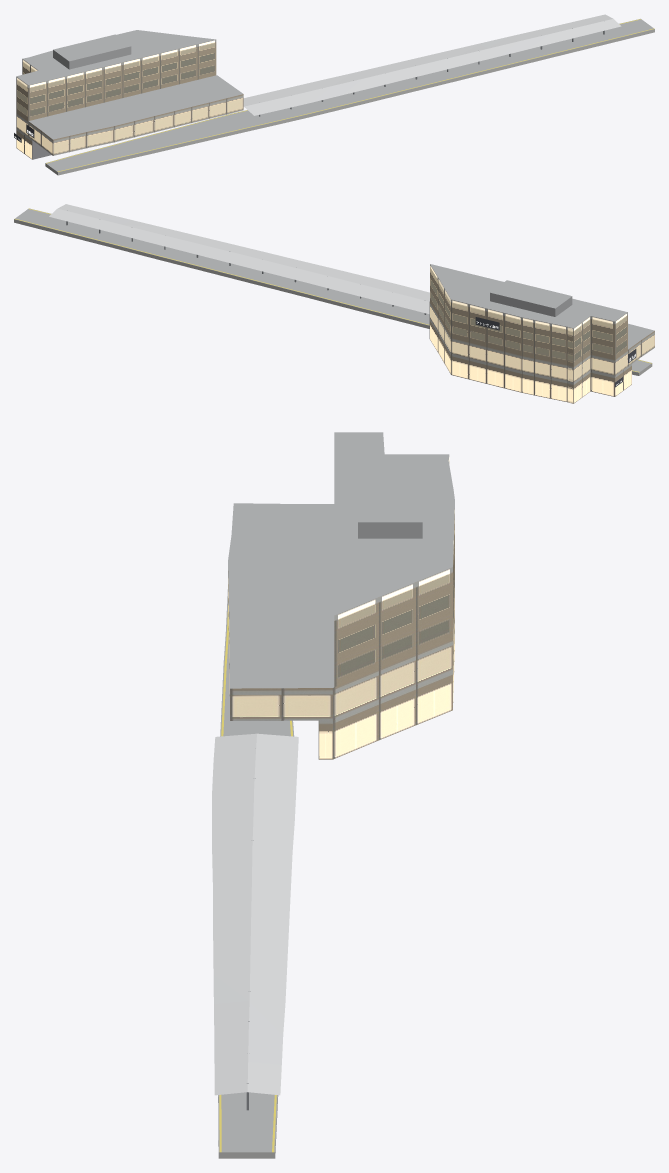
File: sugamo_station.glb
3 views of the same model, one above another, from view 1: azimuth 30°, elevation 25°; view 2: azimuth 150°, elevation 25°; view 3: azimuth 270°, elevation 25° (orthographic). The views are drawn at different scales.
Visible parts, largest first — view 1: SG_Station; view 2: SG_Station; view 3: SG_Station.
Part boxes in pixels (left/top/right/bottom): SG_Station: left=14, top=14, right=654, bottom=175; SG_Station: left=14, top=204, right=654, bottom=403; SG_Station: left=212, top=432, right=454, bottom=1158.
Bounding box in the file's own units: 192 × 24.5 × 34.05.
9 materials, 1 textured.
